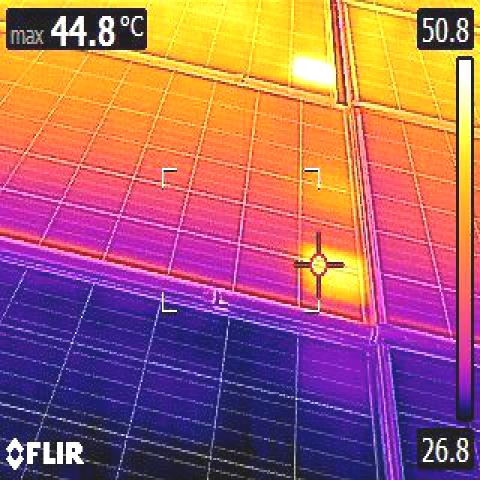fault: (294, 55, 334, 89)
